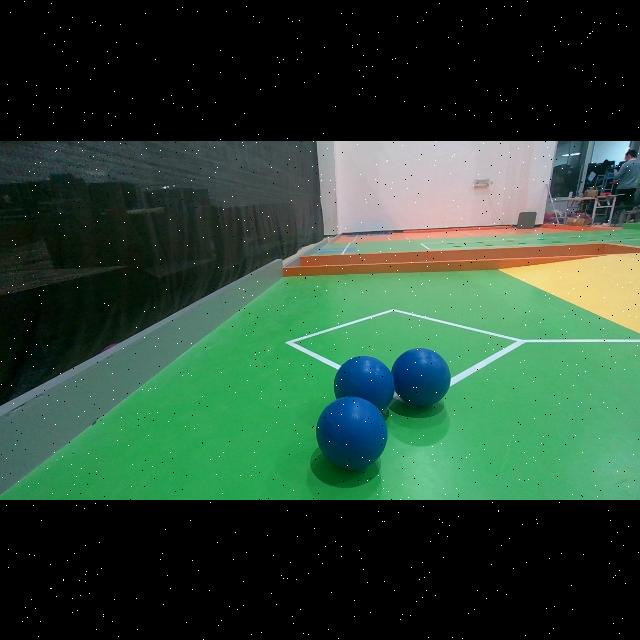B: (316, 396, 388, 470), (332, 358, 394, 416), (390, 348, 450, 407)
